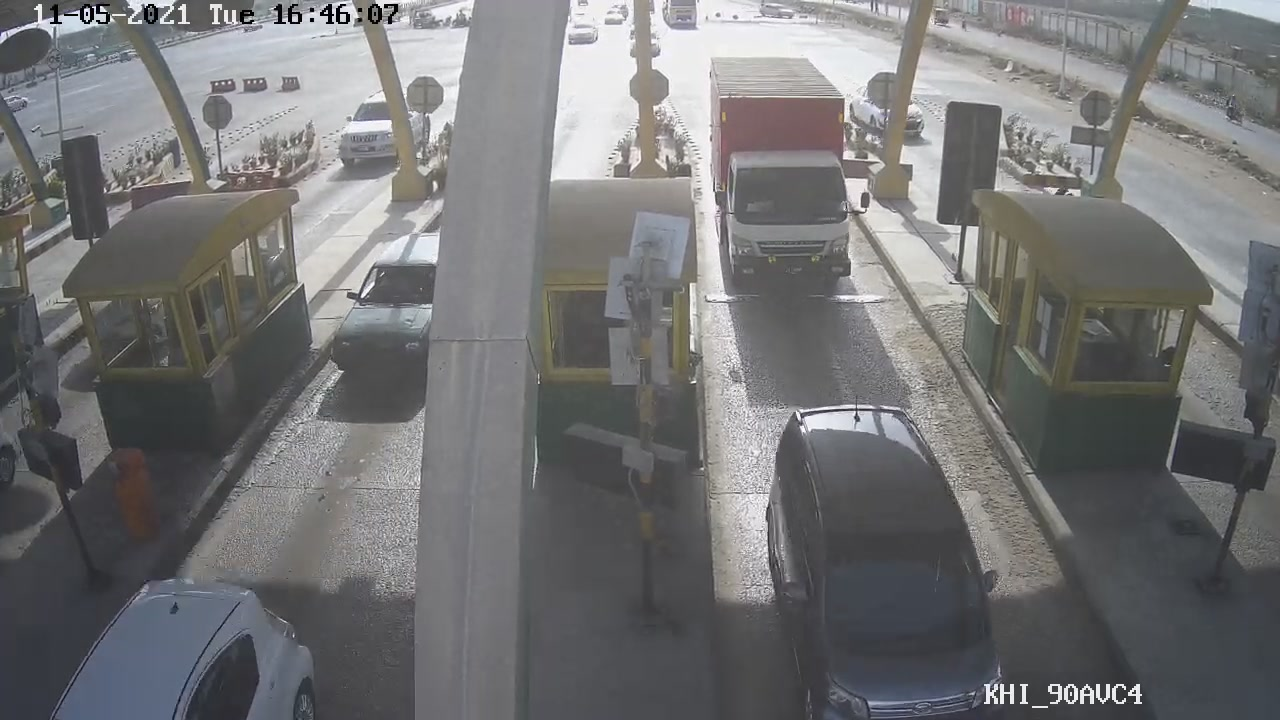F5: (700, 54, 872, 299)
